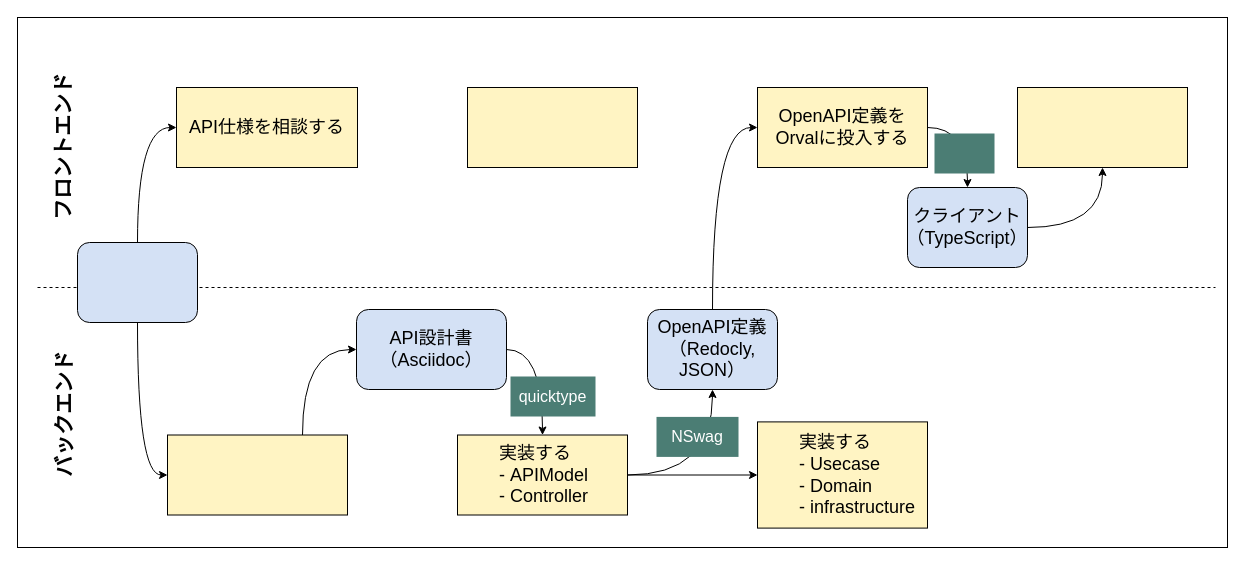
The diagram is 1245 pixels wide and 565 high, and some of its shapes have lost their labels. The centre of each missing label's shape, as x and y in pixels:
API仕様を相談する API設計書作成: the point at 257,474
Orval: the point at 964,153
UI設計書 （Excel）: the point at 137,282
画面部分 実装: the point at 552,127
通信部分 実装: the point at 1102,127
